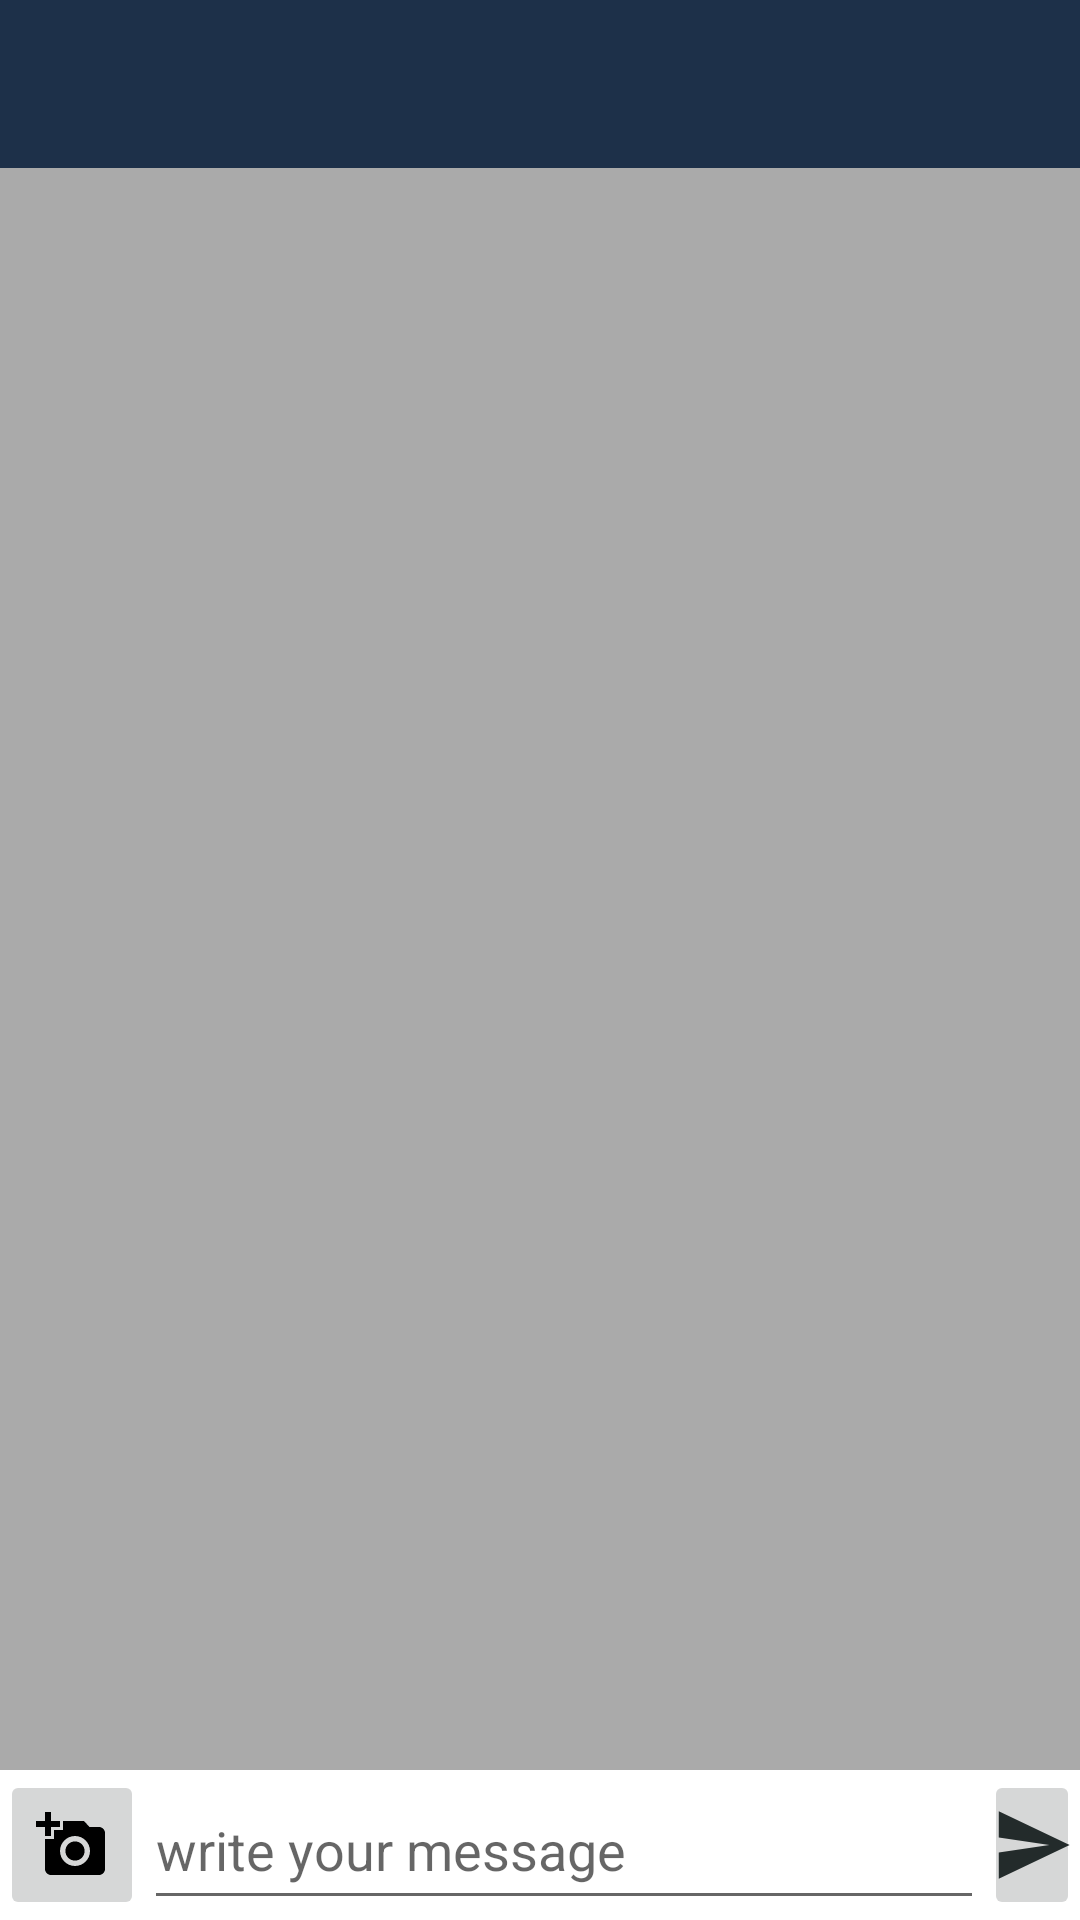

Screen size 1080 x 1920. Icon name, then its box in pixels as (x1, y1, x2, y2):
add photo: (12, 1788, 132, 1902)
send: (996, 1788, 1069, 1902)
